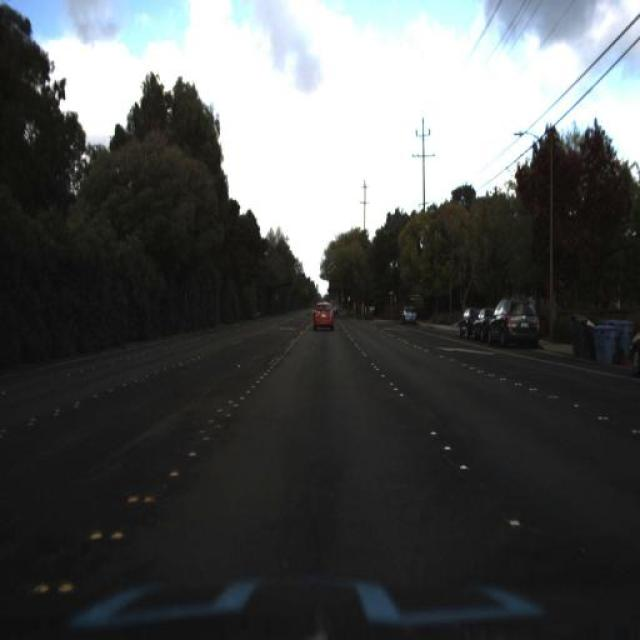car: (488, 295, 544, 349), (309, 292, 336, 338), (470, 304, 489, 346), (458, 303, 476, 339), (398, 306, 420, 330)
